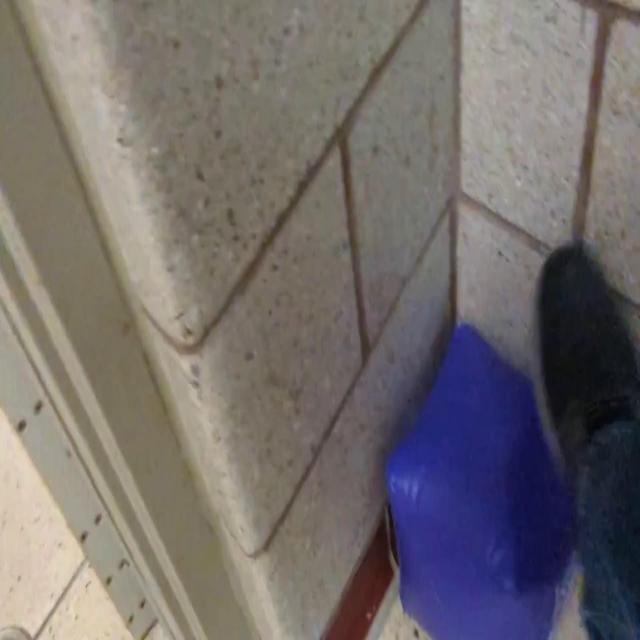frc_cube: (383, 328, 583, 640)
